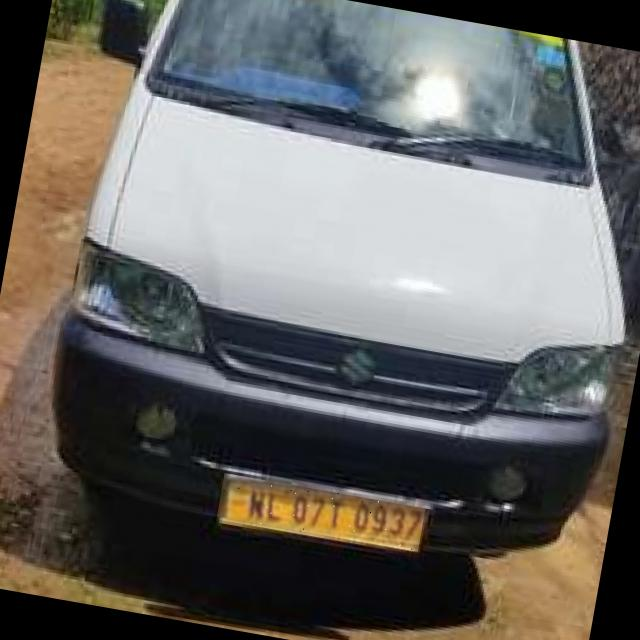Plate: (217, 474, 426, 553)
